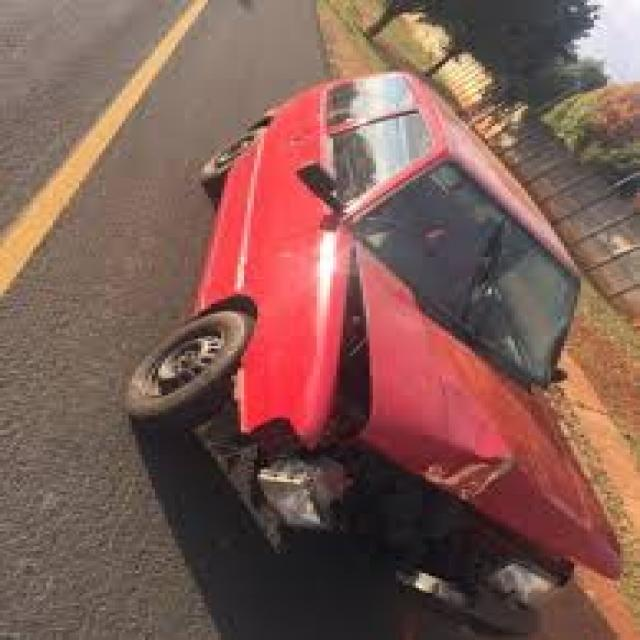moderate: (157, 264, 608, 604)
